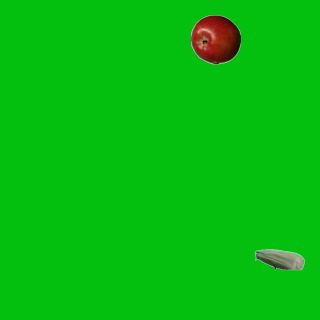Apple Braeburn: (190, 14, 240, 64)
Corn Husk: (254, 234, 304, 284)
